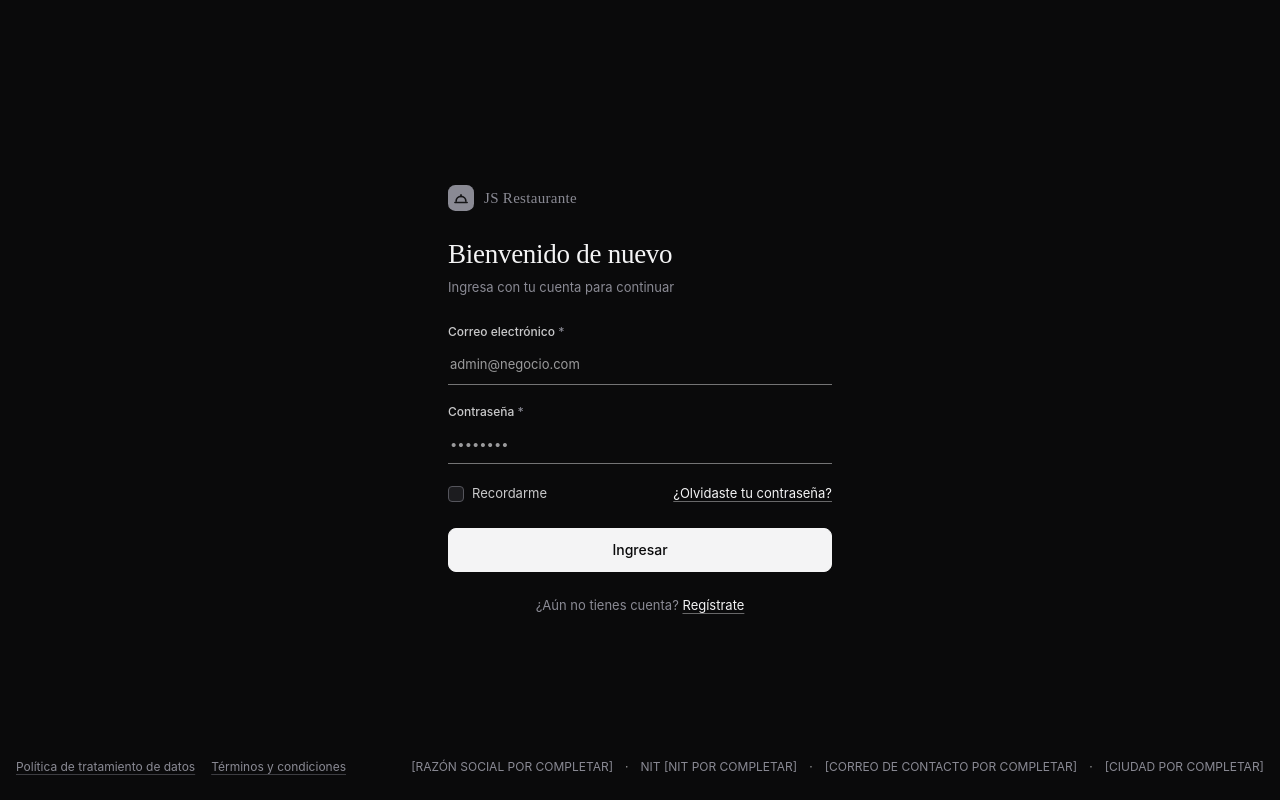
LoginPage › sin conexión: dice a qué URL intentó llegar y que el backend no está corriendo
Type "admin@empresa.com" into the field labelled "Correo electrónico *" at (640, 365), box [448, 345, 832, 385]
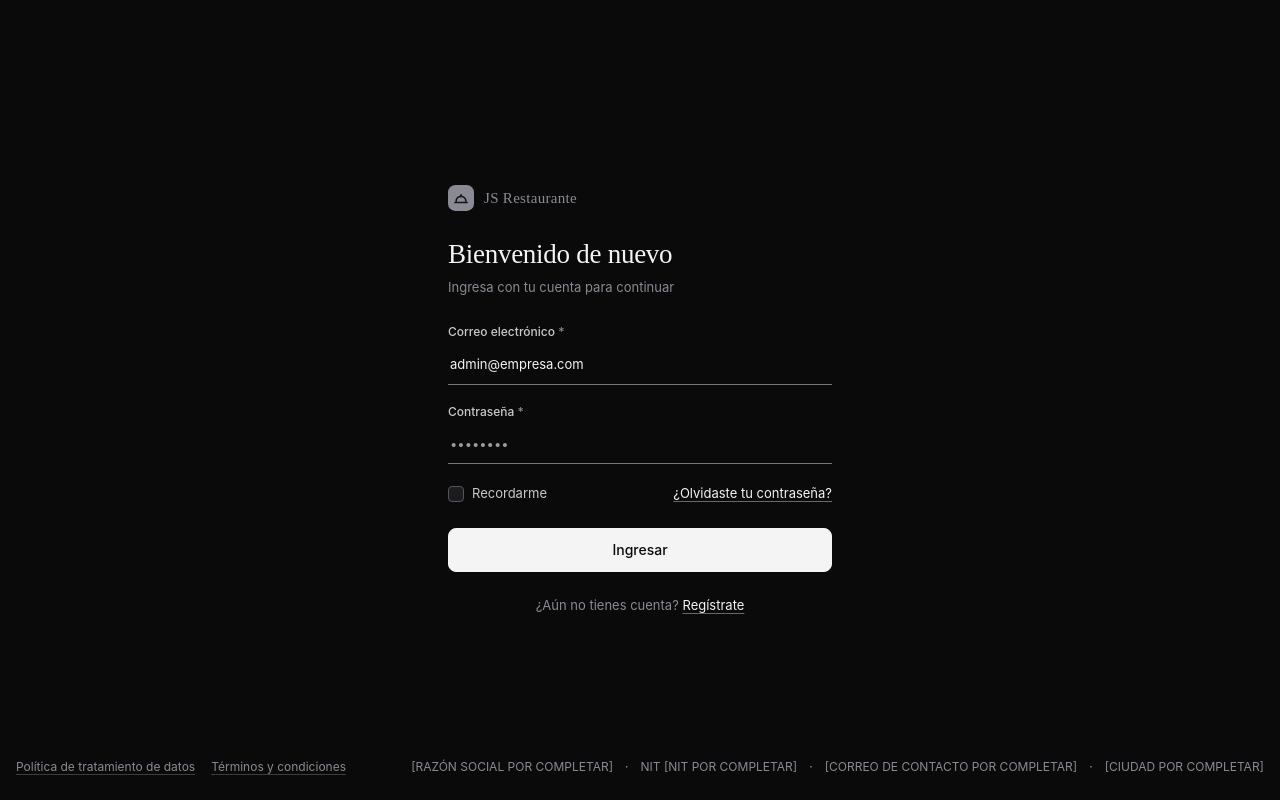
Type "clave-mala" into the password field labelled "Contraseña *" at (640, 444), box [448, 424, 832, 464]
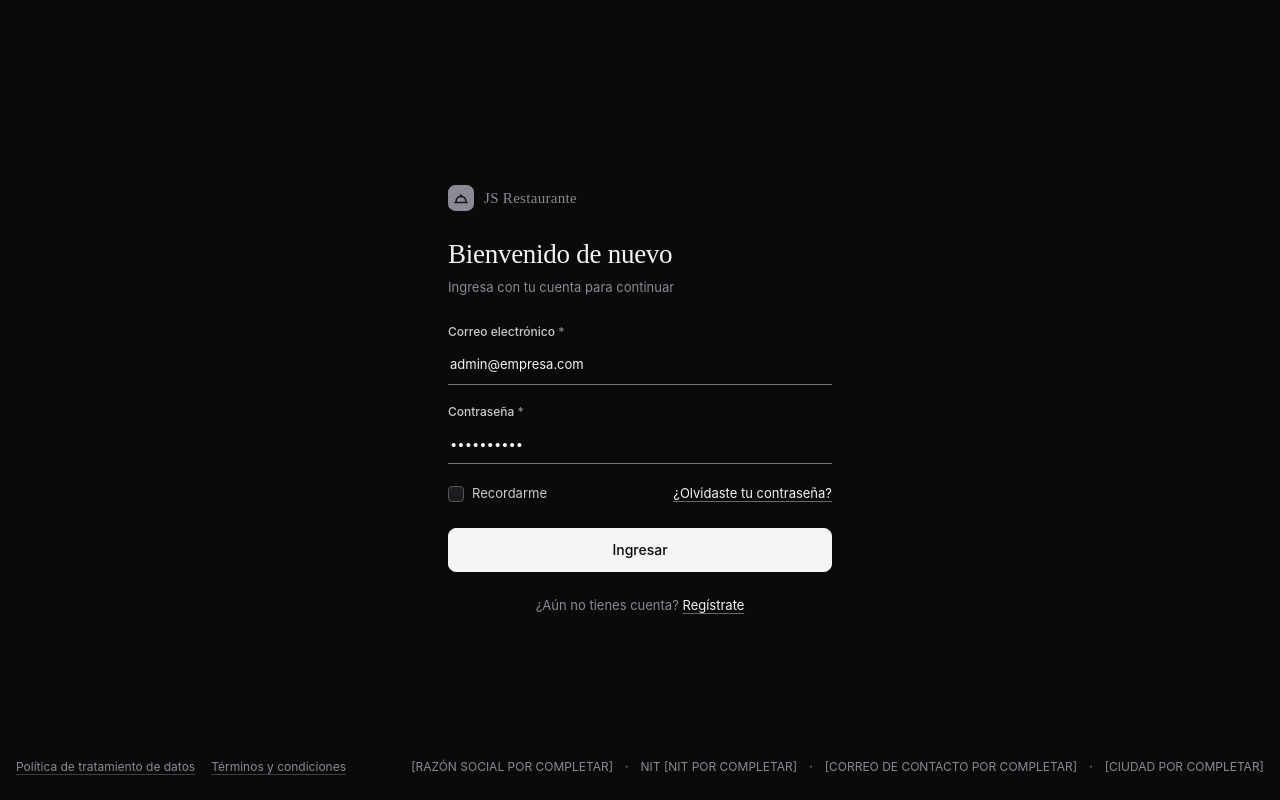
Click the button "Ingresar" at (640, 550), box [448, 528, 832, 572]
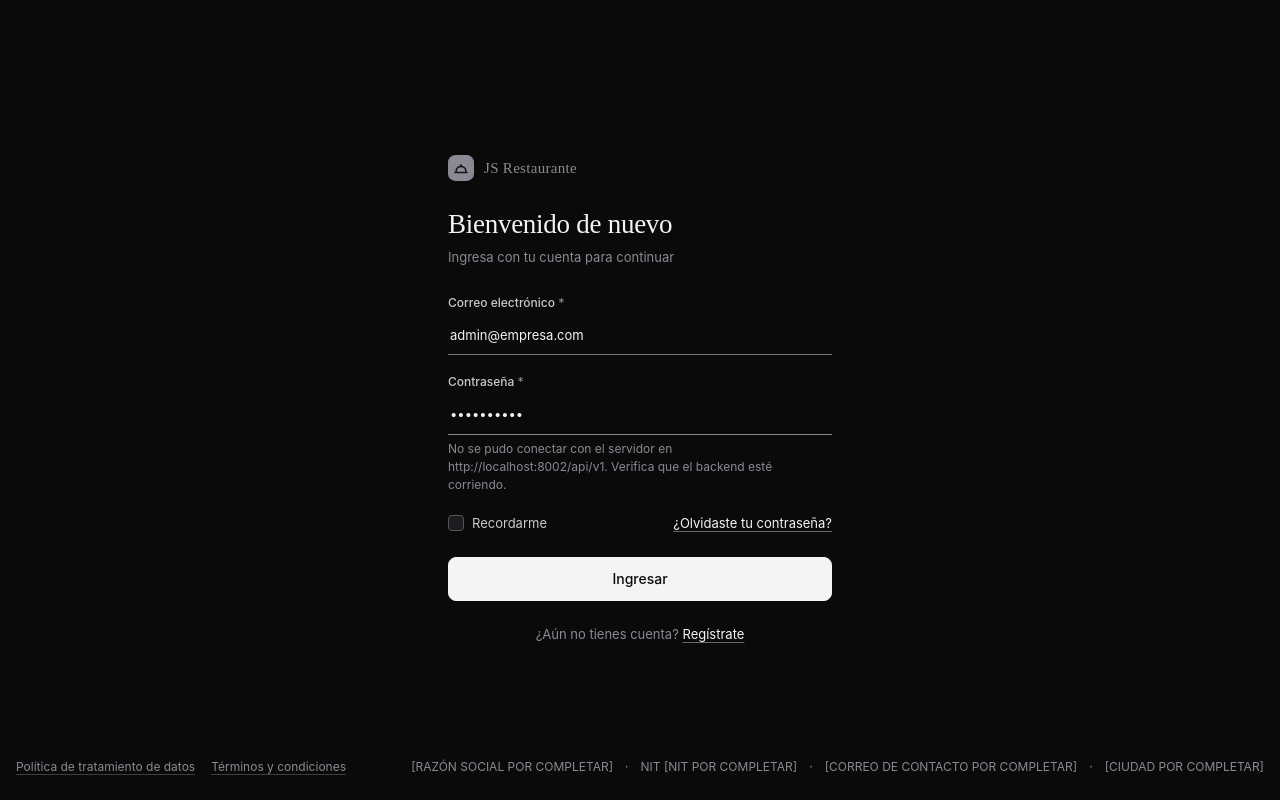
Expected: the text "No se pudo conectar con el servidor en http://localhost:8002/api/v1. Verifica que el backend esté corriendo." is shown, [448, 441, 772, 492]
